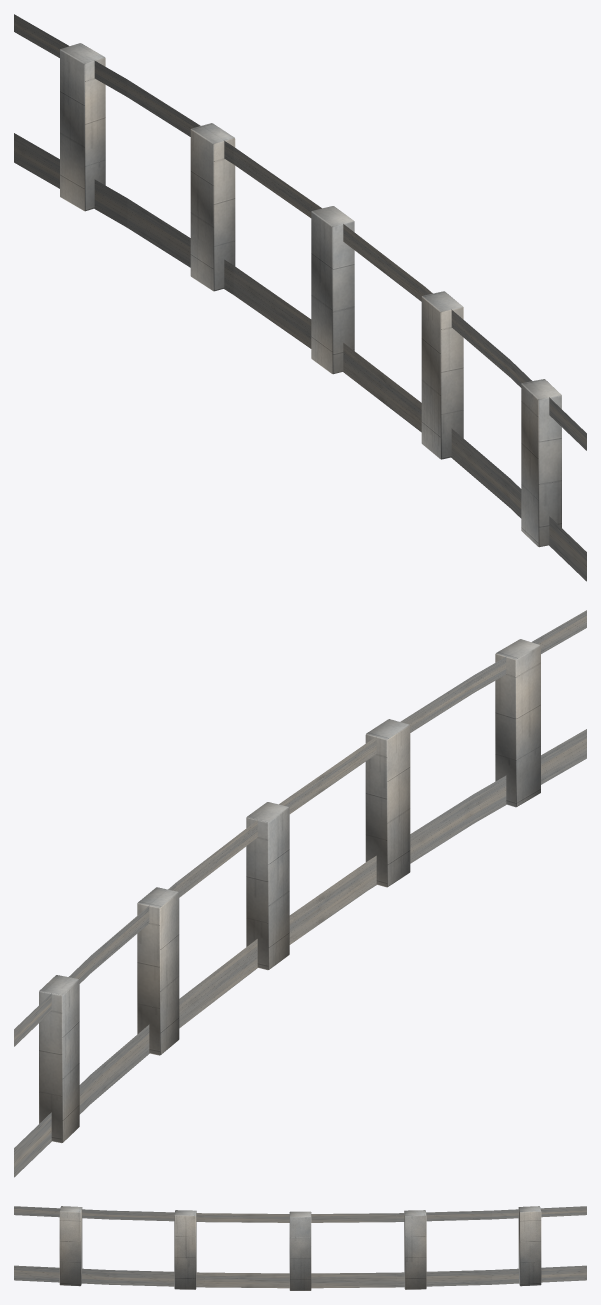
The model's file is box_module.glb.
3 renders of one model, top to bottom at view 1: azimuth 30°, elevation 25°; view 2: azimuth 150°, elevation 25°; view 3: azimuth 270°, elevation 25°, orthographic. The views are drawn at different scales.
Parts seen in each view (by area): view 1: Box_Module; view 2: Box_Module; view 3: Box_Module.
Boxes of the visible parts, x1=… form: Box_Module: x1=14, y1=14, x2=586, y2=581; Box_Module: x1=14, y1=610, x2=586, y2=1177; Box_Module: x1=14, y1=1206, x2=586, y2=1290.
Bounding box in the file's own units: 1.09 × 3.4 × 23.78.
1 material, 1 textured.
